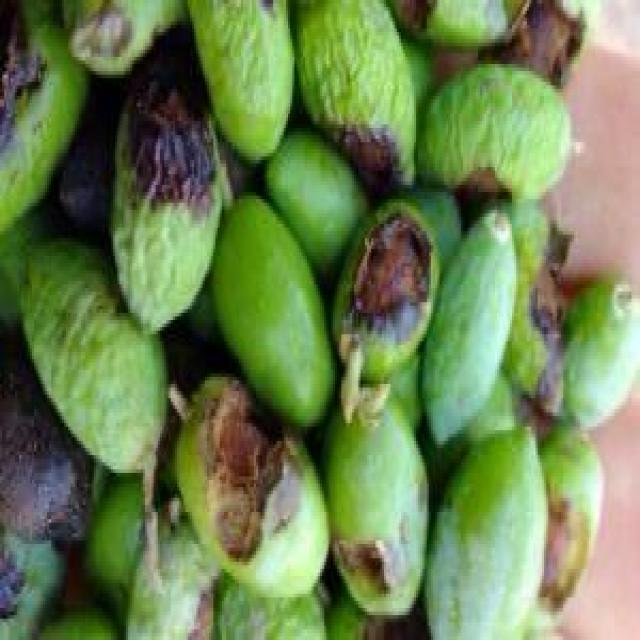Olive Fruit Fly: (175, 377, 326, 594), (111, 82, 230, 327), (324, 395, 427, 612), (299, 0, 414, 185), (418, 64, 570, 196), (333, 199, 437, 377)
